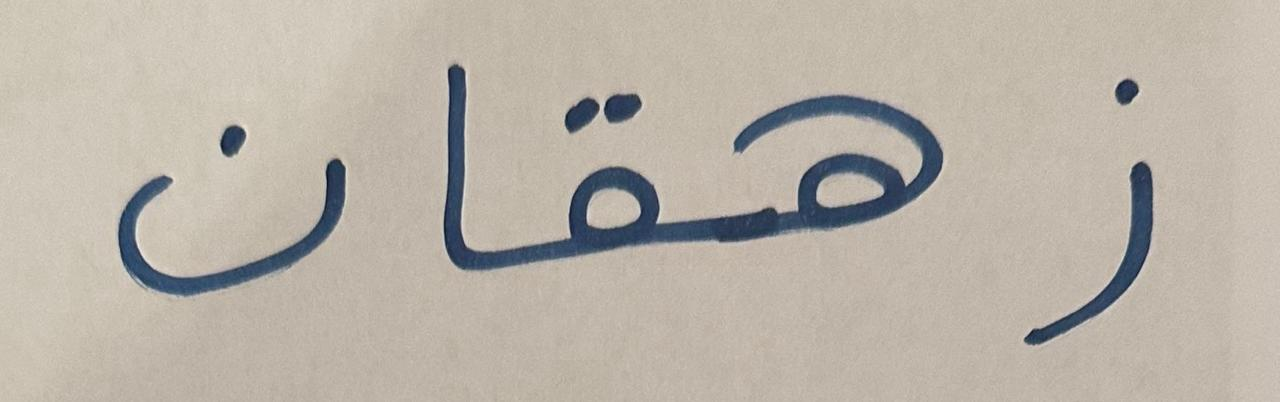alef: (406, 26, 512, 349)
hamza: (986, 40, 1237, 381)
jeem: (697, 42, 981, 293)
qaf: (101, 78, 403, 330)
reh: (517, 61, 691, 315)
